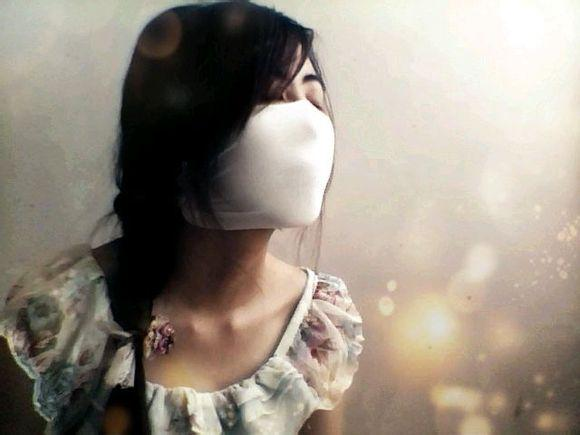OK: (178, 76, 333, 231)
